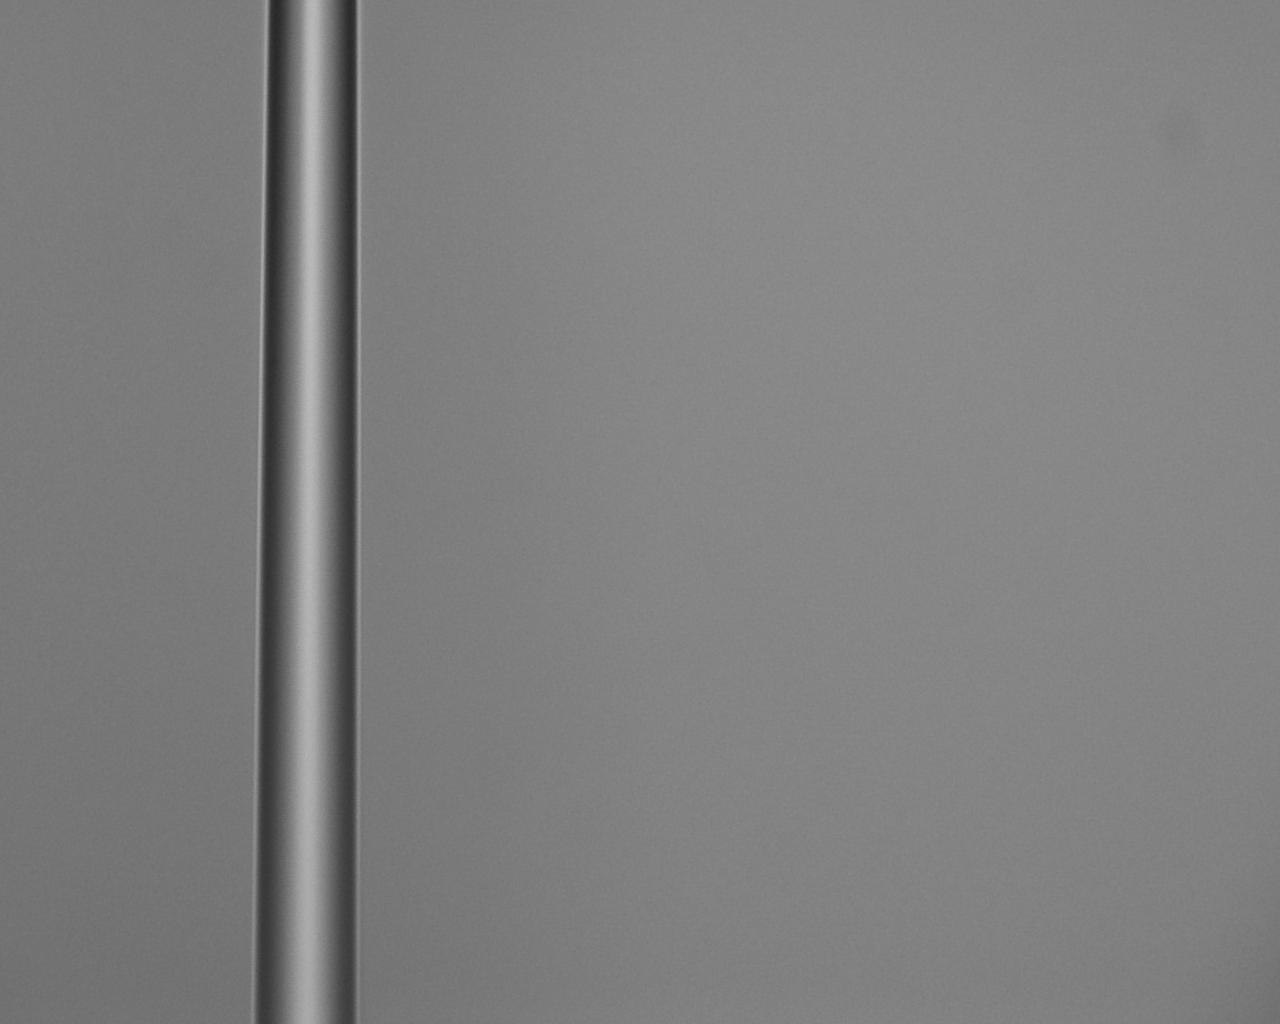fiber: (128, 0, 1117, 1024)
